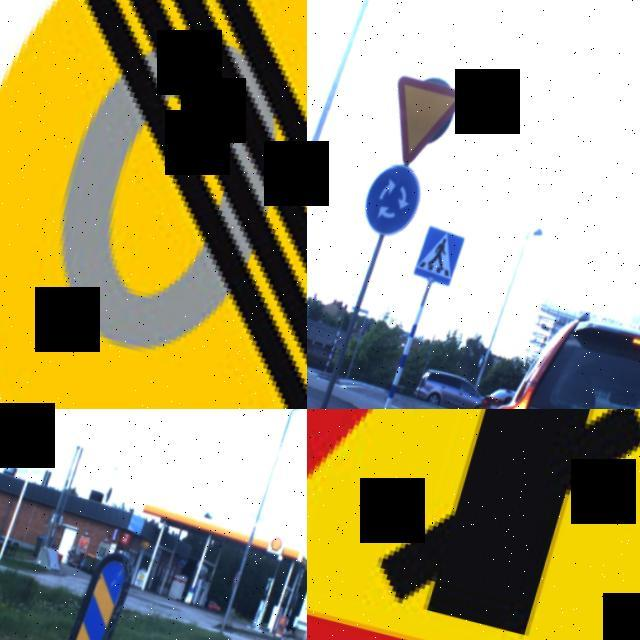166: (307, 409, 640, 640)
181: (56, 540, 140, 640)
Give way -Yield-: (372, 62, 474, 179)
Pedestrian crossing: (412, 217, 474, 288)
Roundabout: (357, 155, 436, 242)
end of the speed limit: (0, 0, 307, 409)
